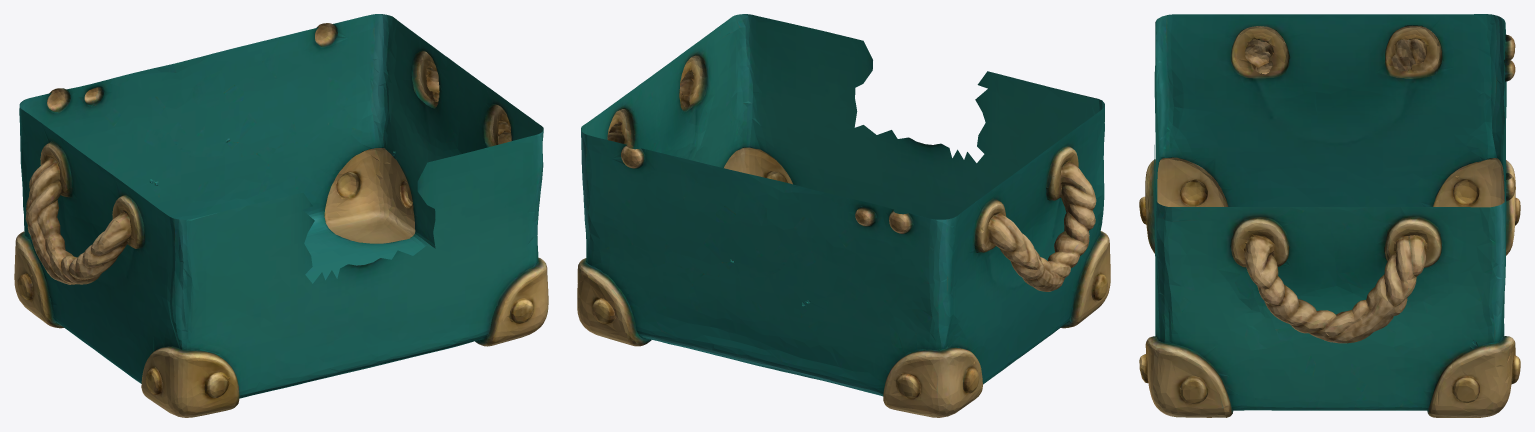
File: body.glb
3 views of the same model, side by side, from view 1: azimuth 30°, elevation 25°; view 2: azimuth 150°, elevation 25°; view 3: azimuth 270°, elevation 25° (orthographic). The views are drawn at different scales.
Visible parts, largest first — view 1: source_surface_0; view 2: source_surface_0; view 3: source_surface_0.
Part boxes in pixels (bbox=[...]): source_surface_0: bbox=[14, 14, 548, 417]; source_surface_0: bbox=[577, 14, 1110, 417]; source_surface_0: bbox=[1139, 14, 1520, 417].
Size of the model in its own units: 0.25 by 0.1113 by 0.1737.
1 material, 1 textured.
